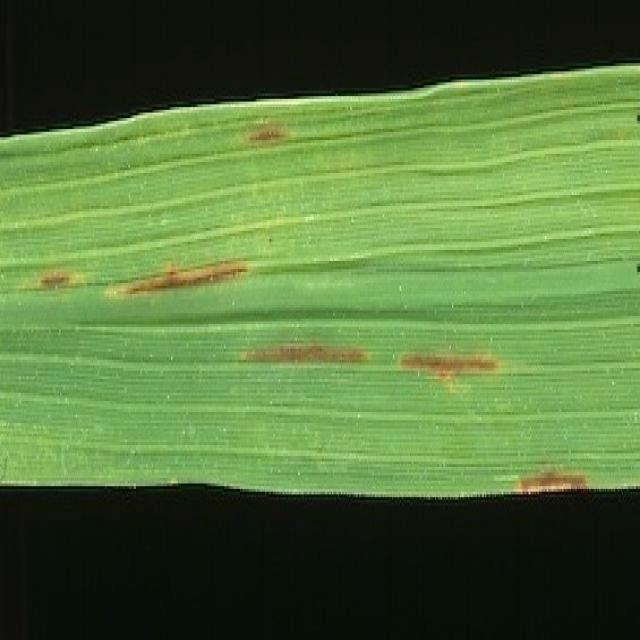Leafsmut: (110, 261, 248, 294), (401, 355, 498, 384), (241, 344, 367, 362), (518, 470, 587, 493), (249, 123, 287, 143), (39, 271, 71, 288)
